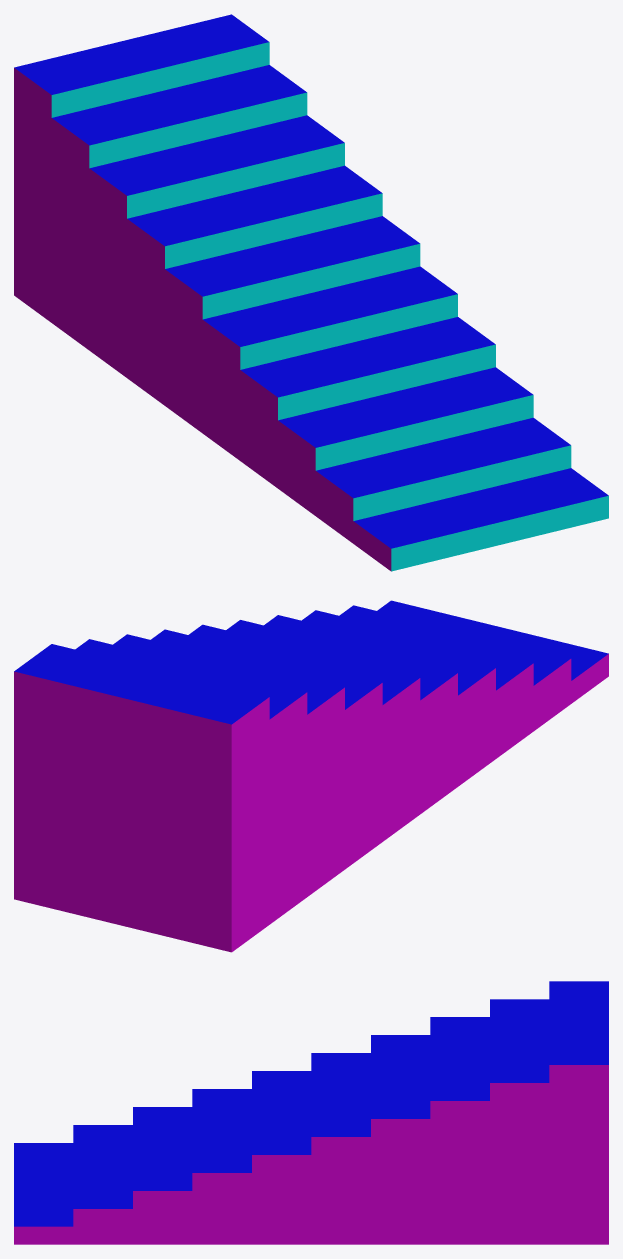
File: Foundation_Stairs_001_1x3x1_AltUVs.fbx
The picture shows the model from 3 angles, top to bottom: view 1: azimuth 30°, elevation 25°; view 2: azimuth 150°, elevation 25°; view 3: azimuth 270°, elevation 25°; orthographic projection. The views are drawn at different scales.
Visible parts, largest first — view 1: Foundation_Stairs_001_1x3x1_AltUVs; view 2: Foundation_Stairs_001_1x3x1_AltUVs; view 3: Foundation_Stairs_001_1x3x1_AltUVs.
Part boxes in pixels (box(x1,y1,x2,y2)): Foundation_Stairs_001_1x3x1_AltUVs: box(14, 14, 608, 571); Foundation_Stairs_001_1x3x1_AltUVs: box(14, 600, 608, 952); Foundation_Stairs_001_1x3x1_AltUVs: box(14, 981, 608, 1244).
Bounding box in the file's own units: 100 × 100 × 300.
